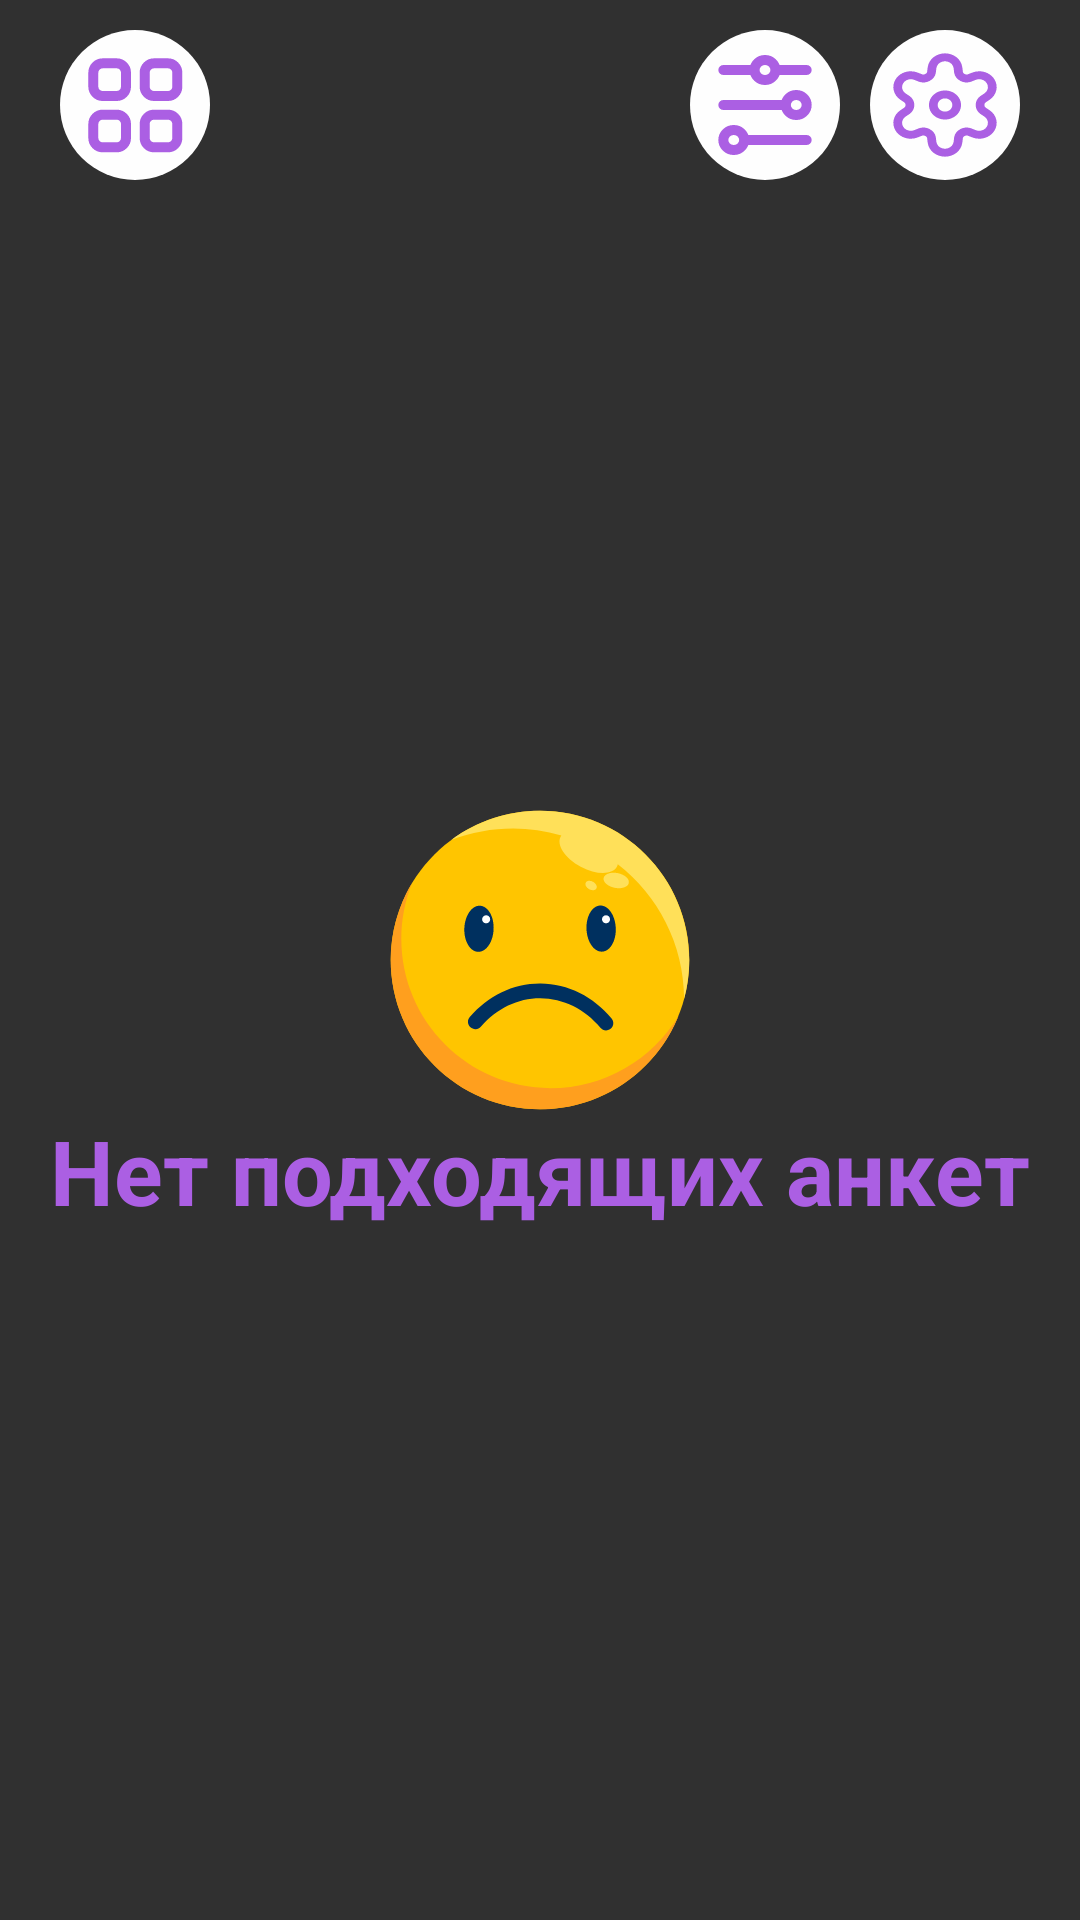

Icon bounding boxes for this 1080w x 1920h phone screenshot, format (x1, y1, x2, y2):
navigation but filters: (690, 30, 840, 180)
navigation but menu: (60, 30, 210, 180)
navigation but settings: (870, 30, 1020, 180)
sad emoji: (390, 810, 690, 1110)
